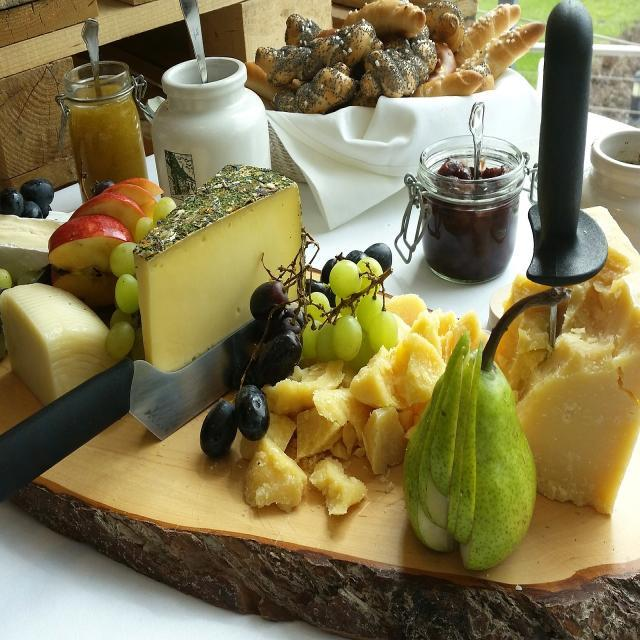Knife: (2, 322, 256, 501)
